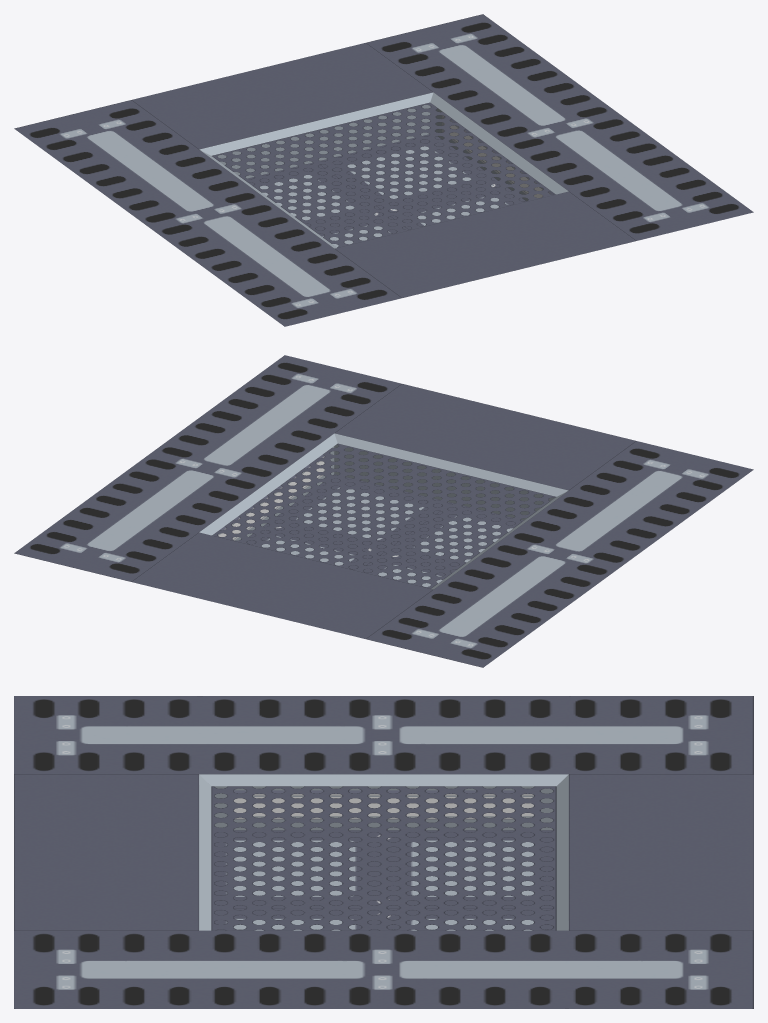
File: Floor_05_B.FBX
3 renders of one model, top to bottom at view 1: azimuth 30°, elevation 25°; view 2: azimuth 150°, elevation 25°; view 3: azimuth 270°, elevation 25°, orthographic. The views are drawn at different scales.
Visible parts, largest first — view 1: Floor_05_B; view 2: Floor_05_B; view 3: Floor_05_B.
Part boxes in pixels (x1,y1,x2,y2): Floor_05_B: (14,14,753,326); Floor_05_B: (14,355,753,667); Floor_05_B: (14,696,753,1008).
Bounding box in the file's own units: 6 × 0.5 × 6.
3 materials, 3 textured.
